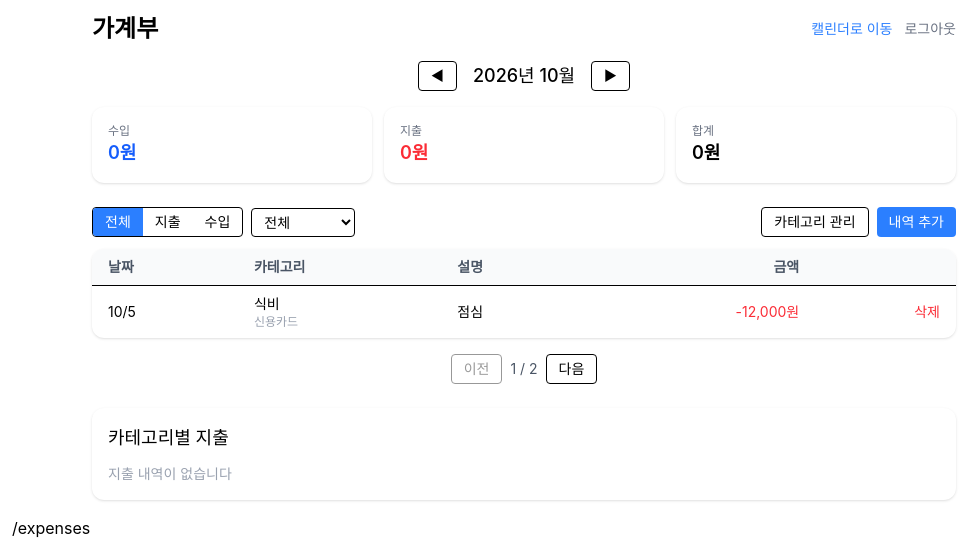
ExpensesPage › 필터/월 이동/페이지 › moveMonth_whenPrevClicked_reloadsPreviousMonthFromPage0
Expected: the text "점심" is shown, x1=441 y1=286 x2=582 y2=338
Click the button "다음" at (572, 369), box x1=546 y1=354 x2=597 y2=384
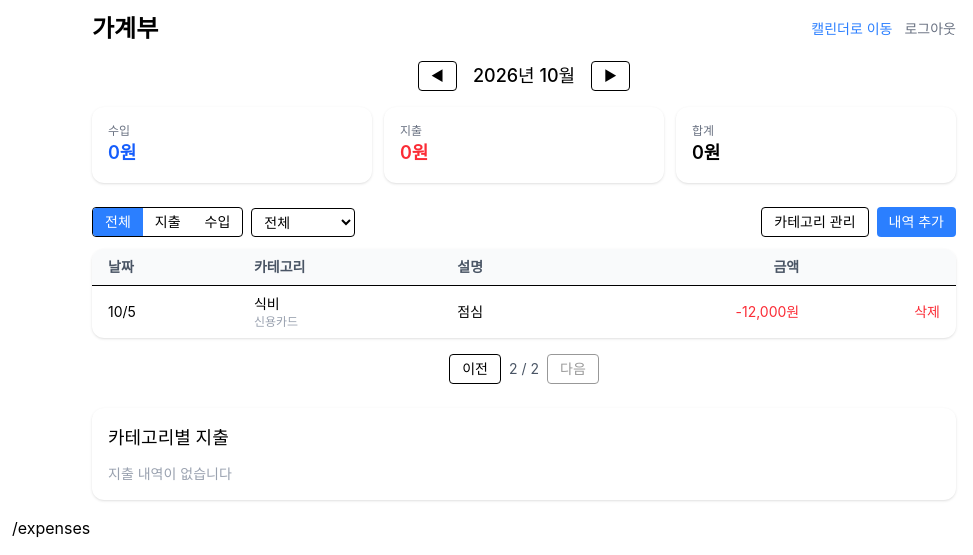
Click the button named "이전 달" at (438, 76), box x1=418 y1=61 x2=457 y2=91
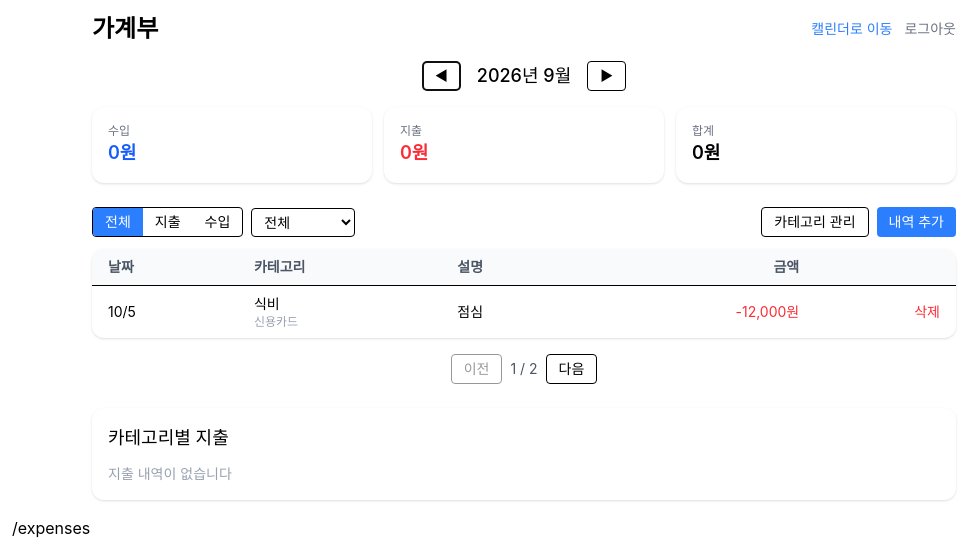
Result: the text "2026년 9월" is shown at x1=477 y1=62 x2=571 y2=90
